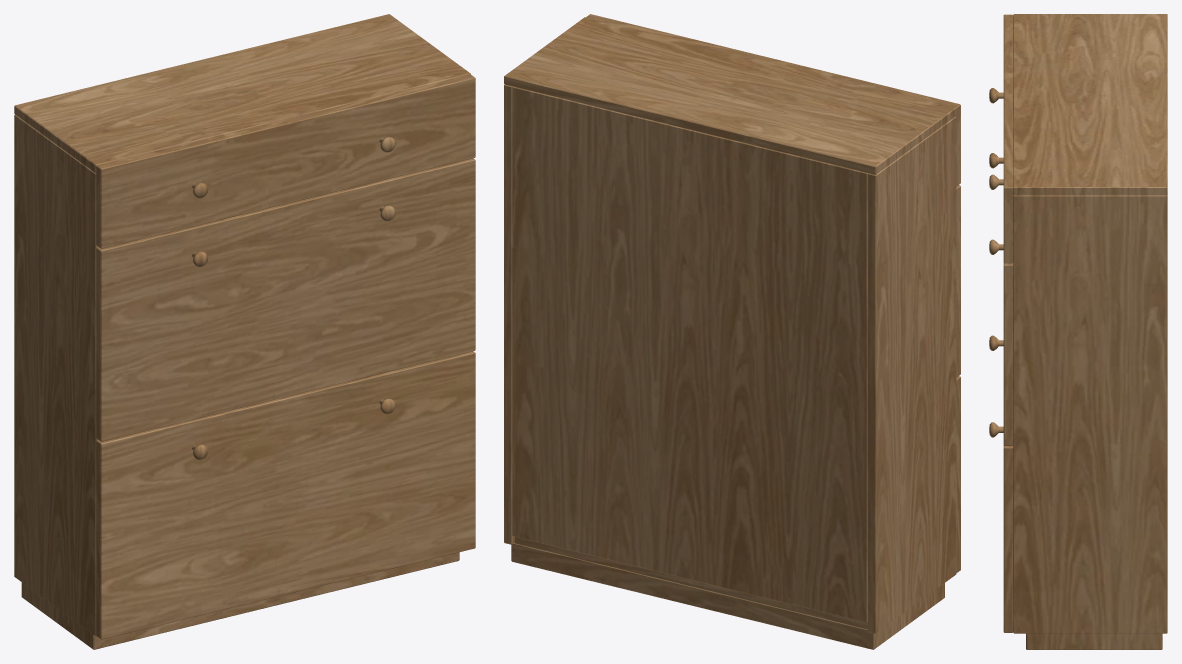
Rendered from zapatero_abatible_roble_80.glb.
3 views of the same model, side by side, from view 1: azimuth 30°, elevation 25°; view 2: azimuth 150°, elevation 25°; view 3: azimuth 270°, elevation 25° (orthographic). The views are drawn at different scales.
Visible parts, largest first — view 1: zapatero_abatible_roble_80; view 2: zapatero_abatible_roble_80; view 3: zapatero_abatible_roble_80.
Boxes of the visible parts, left/top/right/bottom form: zapatero_abatible_roble_80: left=14, top=14, right=475, bottom=649; zapatero_abatible_roble_80: left=504, top=14, right=960, bottom=649; zapatero_abatible_roble_80: left=989, top=14, right=1167, bottom=649.
Bounding box in the file's own units: 0.8 × 1 × 0.3479.
Materials: 1 (1 with a texture image).
